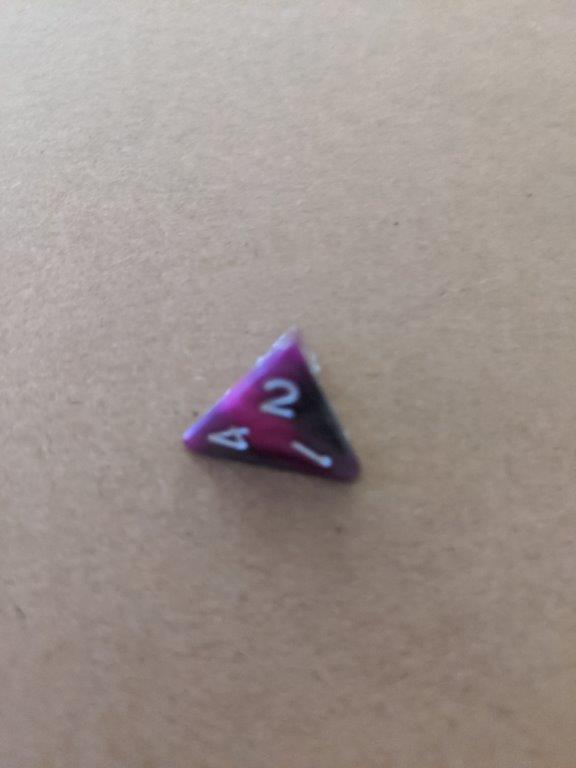d4-2: (180, 322, 367, 493)
